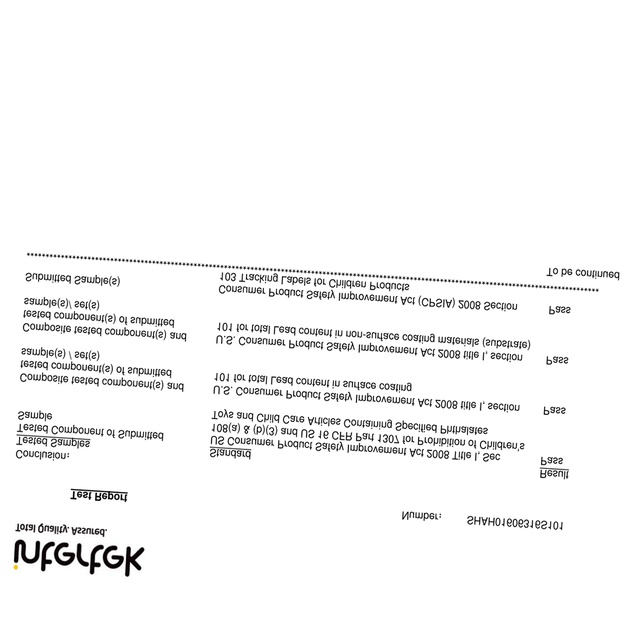intertek: (10, 535, 149, 582)
